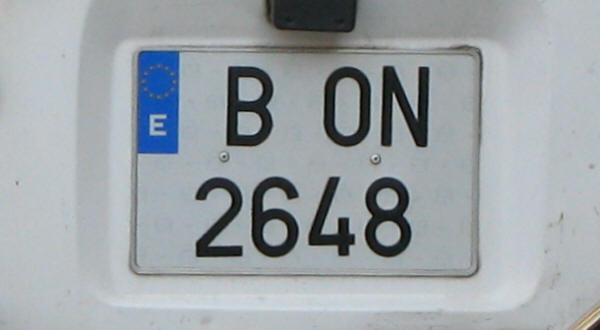license_plate: (129, 45, 481, 276)
